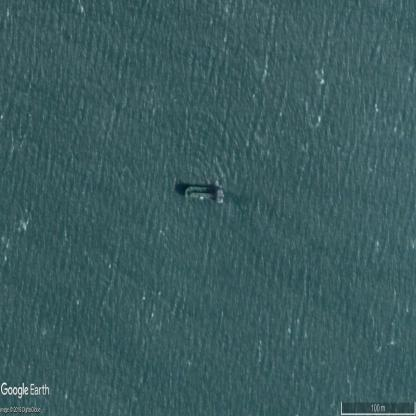ship: (186, 184, 224, 205)
